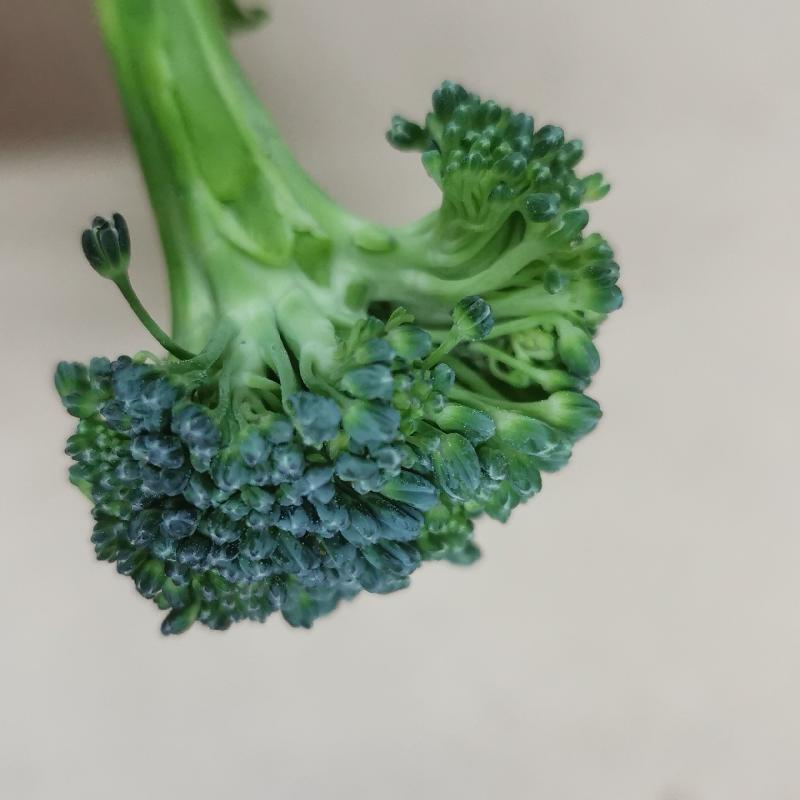broccoli: (49, 3, 626, 637)
